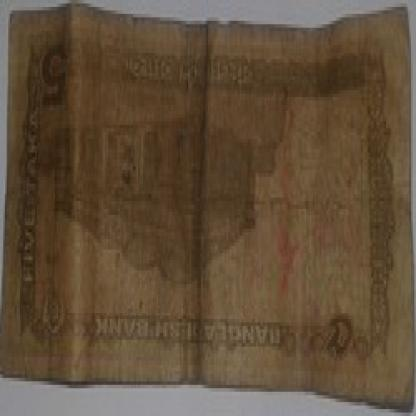Five Taka: (20, 90, 42, 291), (35, 35, 73, 121), (323, 302, 354, 367)
